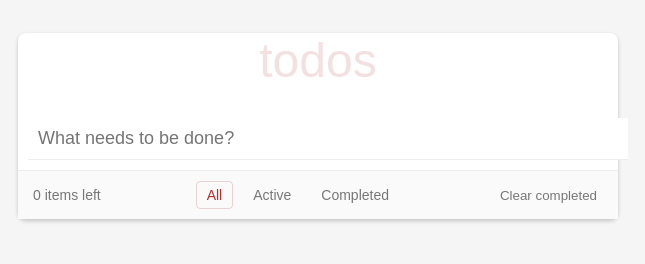
Test: Tasks component › adds a new task
Type "New Task" into the field with placeholder "What needs to be done?" at [328, 139], box [28, 118, 628, 160]
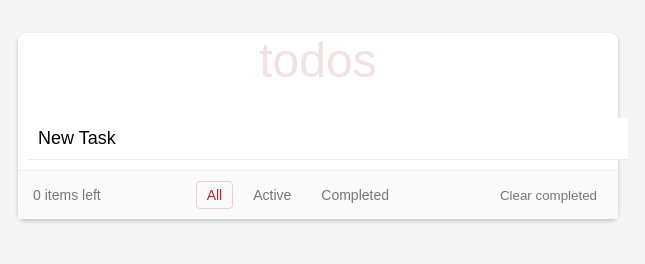
Press Enter in the field with placeholder "What needs to be done?", box [28, 118, 628, 160]
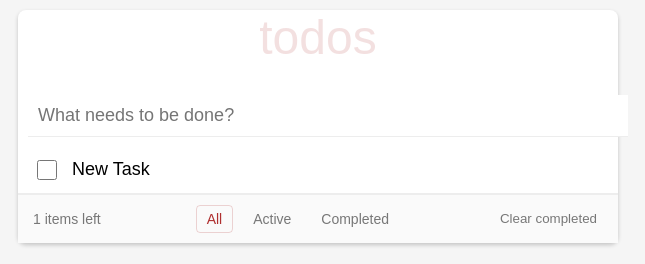
Check: the text "New Task" is shown, box [72, 159, 150, 179]
